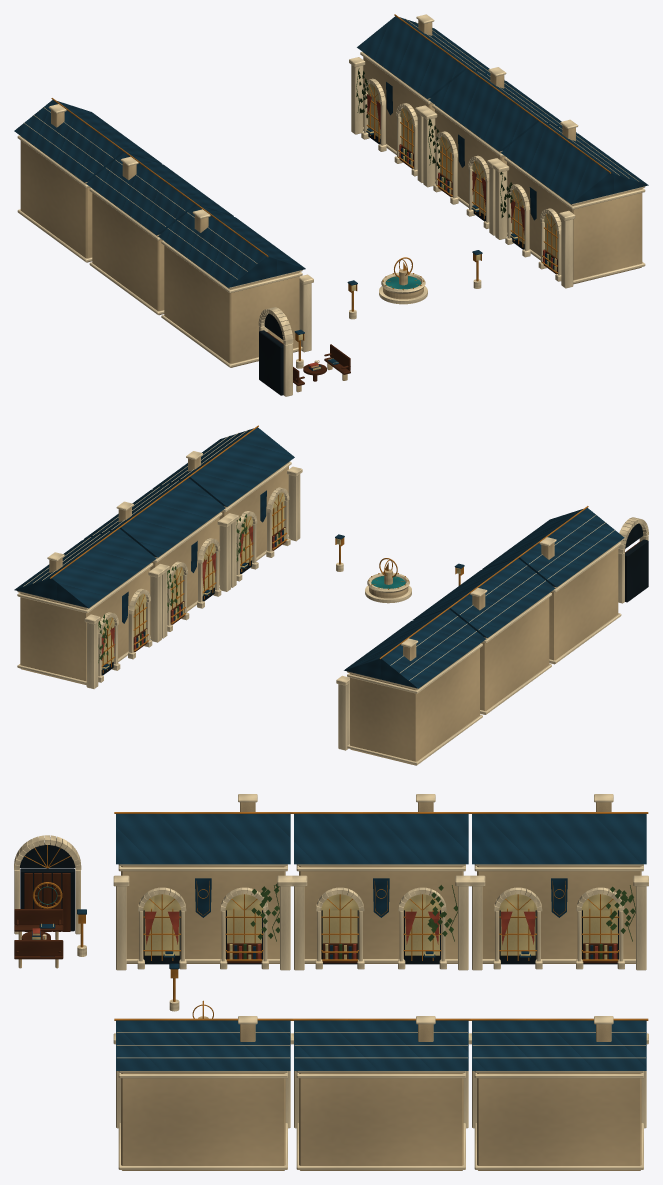
Rendered from courtyard.glb.
The picture shows the model from 3 angles, top to bottom: view 1: azimuth 30°, elevation 25°; view 2: azimuth 150°, elevation 25°; view 3: azimuth 270°, elevation 25°; orthographic projection. The views are drawn at different scales.
Visible parts, largest first — view 1: Benchmark slate, Benchmark limestone, Benchmark carved edge, Benchmark brass, Benchmark parchment, Benchmark ink, Benchmark wood, Benchmark moss, Benchmark coral; view 2: Benchmark slate, Benchmark limestone, Benchmark carved edge, Benchmark brass, Benchmark parchment, Benchmark ink, Benchmark moss, Benchmark coral; view 3: Benchmark limestone, Benchmark slate, Benchmark carved edge, Benchmark parchment, Benchmark brass, Benchmark wood, Benchmark ink, Benchmark moss, Benchmark coral.
Part boxes in pixels (x1,y1,x2,y2): Benchmark slate: (14, 16, 648, 370); Benchmark limestone: (20, 20, 642, 392); Benchmark carved edge: (17, 14, 645, 396); Benchmark brass: (51, 14, 611, 362); Benchmark parchment: (298, 83, 558, 370); Benchmark ink: (259, 133, 524, 395); Benchmark wood: (267, 144, 557, 385); Benchmark moss: (356, 68, 550, 266); Benchmark coral: (308, 94, 552, 368); Benchmark slate: (14, 427, 624, 688); Benchmark limestone: (20, 456, 618, 765); Benchmark carved edge: (17, 430, 648, 764); Benchmark brass: (50, 425, 588, 673); Benchmark parchment: (101, 492, 460, 669); Benchmark ink: (101, 523, 648, 675); Benchmark moss: (98, 514, 280, 663); Benchmark coral: (101, 526, 281, 660); Benchmark limestone: (18, 802, 641, 1170); Benchmark slate: (32, 814, 646, 1070); Benchmark carved edge: (14, 794, 648, 1169); Benchmark parchment: (32, 893, 619, 959); Benchmark brass: (24, 812, 648, 1020); Benchmark wood: (14, 873, 617, 963); Benchmark ink: (20, 843, 618, 964); Benchmark moss: (243, 883, 635, 959); Benchmark coral: (32, 911, 616, 959).
Bounding box in the file's own units: 27 × 6.91 × 28.54.
Materials: 10 (10 with a texture image).
